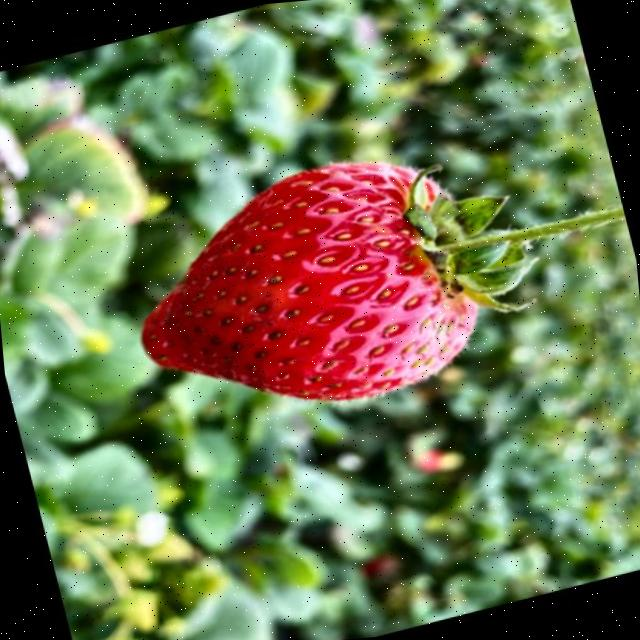strawberry: (142, 162, 621, 401)
